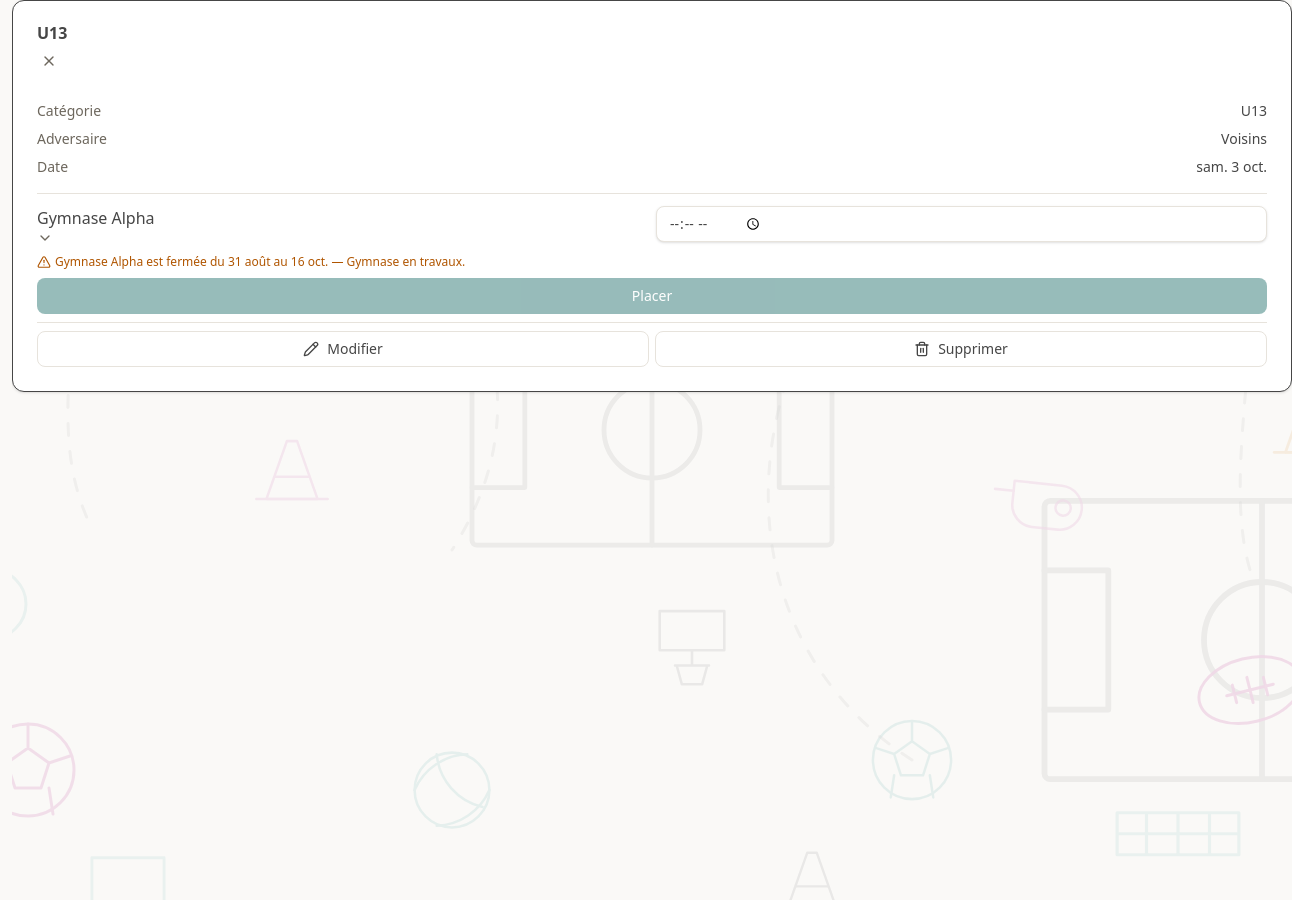
Test: PlacementPanel — gymnase fermé ou indisponible grisé (P4-300) › grise l'option d'un gymnase fermé par le calendrier à la date du match, avec la raison
The width and height of the screenshot is (1292, 900).
Click the button "Gymnase Alpha": click(96, 226) [37, 206, 154, 246]
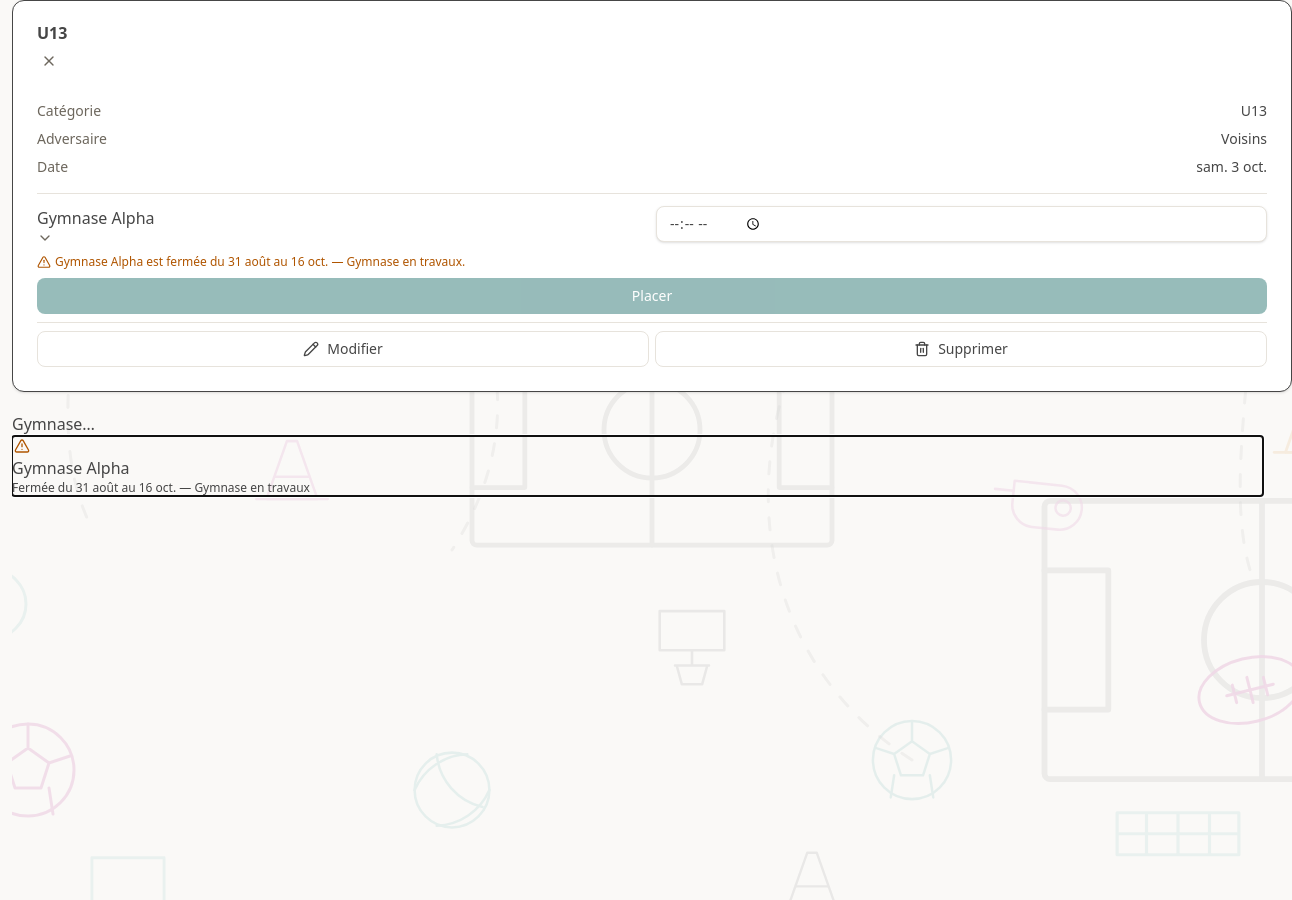
Expected: the text "Fermée du 31 août au 16 oct. — Gymnase en travaux" is shown, [12, 479, 310, 496]
